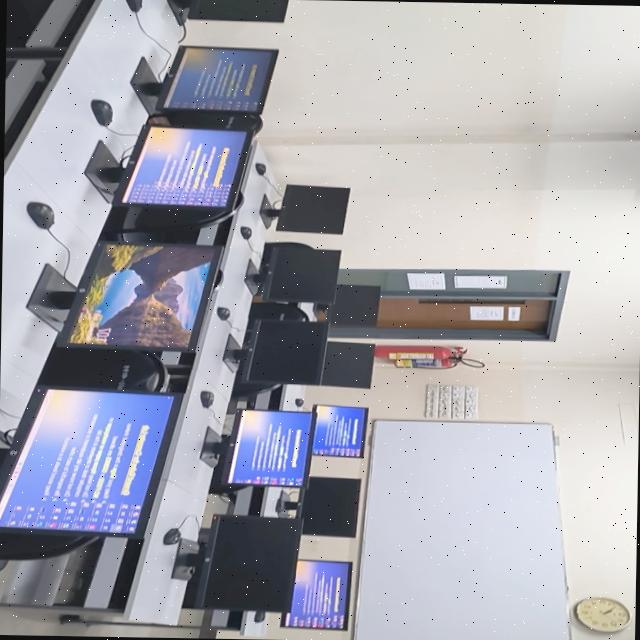Fire Extinguisher: (373, 345, 484, 369), (373, 345, 465, 359)
Monitor: (0, 389, 172, 533), (62, 244, 213, 350), (112, 124, 247, 211), (193, 515, 300, 612), (155, 46, 277, 114), (220, 410, 311, 486), (236, 318, 327, 385), (244, 242, 339, 303), (279, 560, 351, 630), (259, 184, 348, 234), (300, 476, 360, 538), (304, 341, 373, 388), (166, 0, 288, 25), (312, 405, 367, 457), (326, 284, 379, 327)
Mouse: (26, 202, 53, 229), (90, 99, 111, 127), (162, 528, 180, 545), (199, 390, 213, 408), (124, 0, 140, 13), (215, 306, 229, 320), (239, 226, 251, 239), (254, 163, 265, 175), (294, 398, 303, 407)
